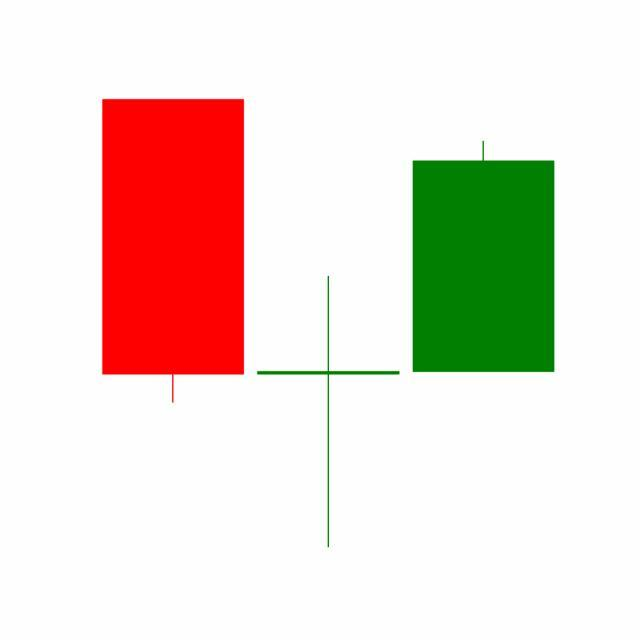Spinning Top: (250, 272, 407, 551)
